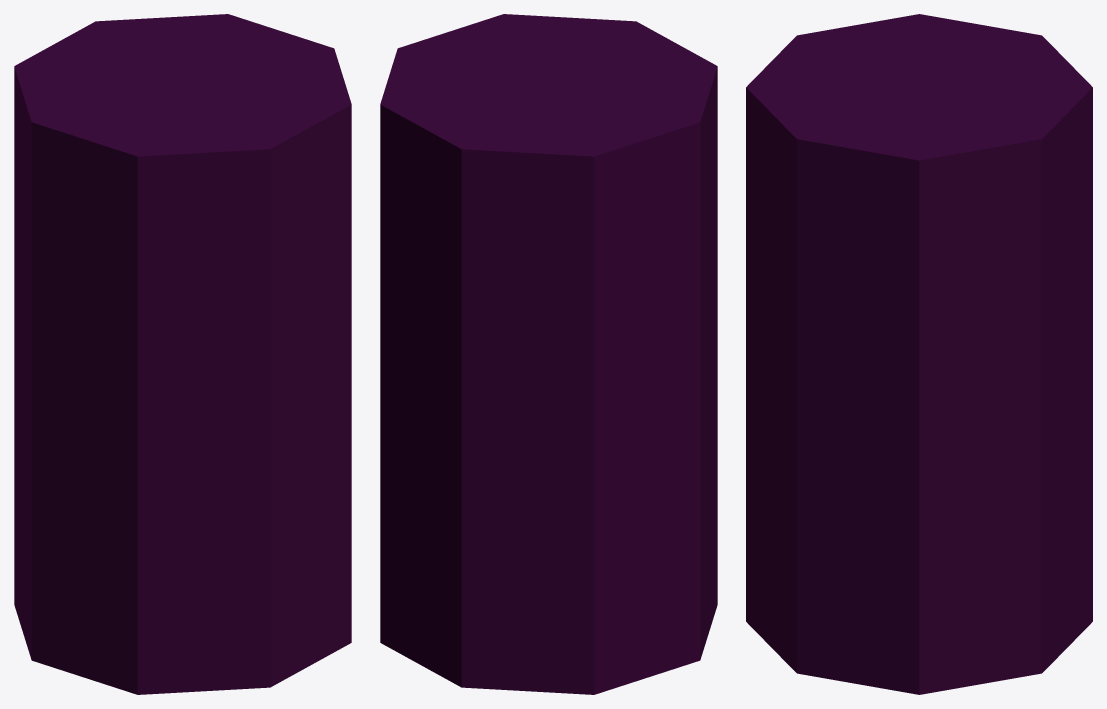
The model's file is bin.glb.
The picture shows the model from 3 angles, left to right: view 1: azimuth 30°, elevation 25°; view 2: azimuth 150°, elevation 25°; view 3: azimuth 270°, elevation 25°; orthographic projection.
Visible parts, largest first — view 1: bin; view 2: bin; view 3: bin.
Part boxes in pixels (left/top/right/bottom): bin: left=14, top=14, right=351, bottom=694; bin: left=380, top=14, right=717, bottom=694; bin: left=746, top=14, right=1092, bottom=694.
Size of the model in its own units: 0.5 by 0.85 by 0.5.
